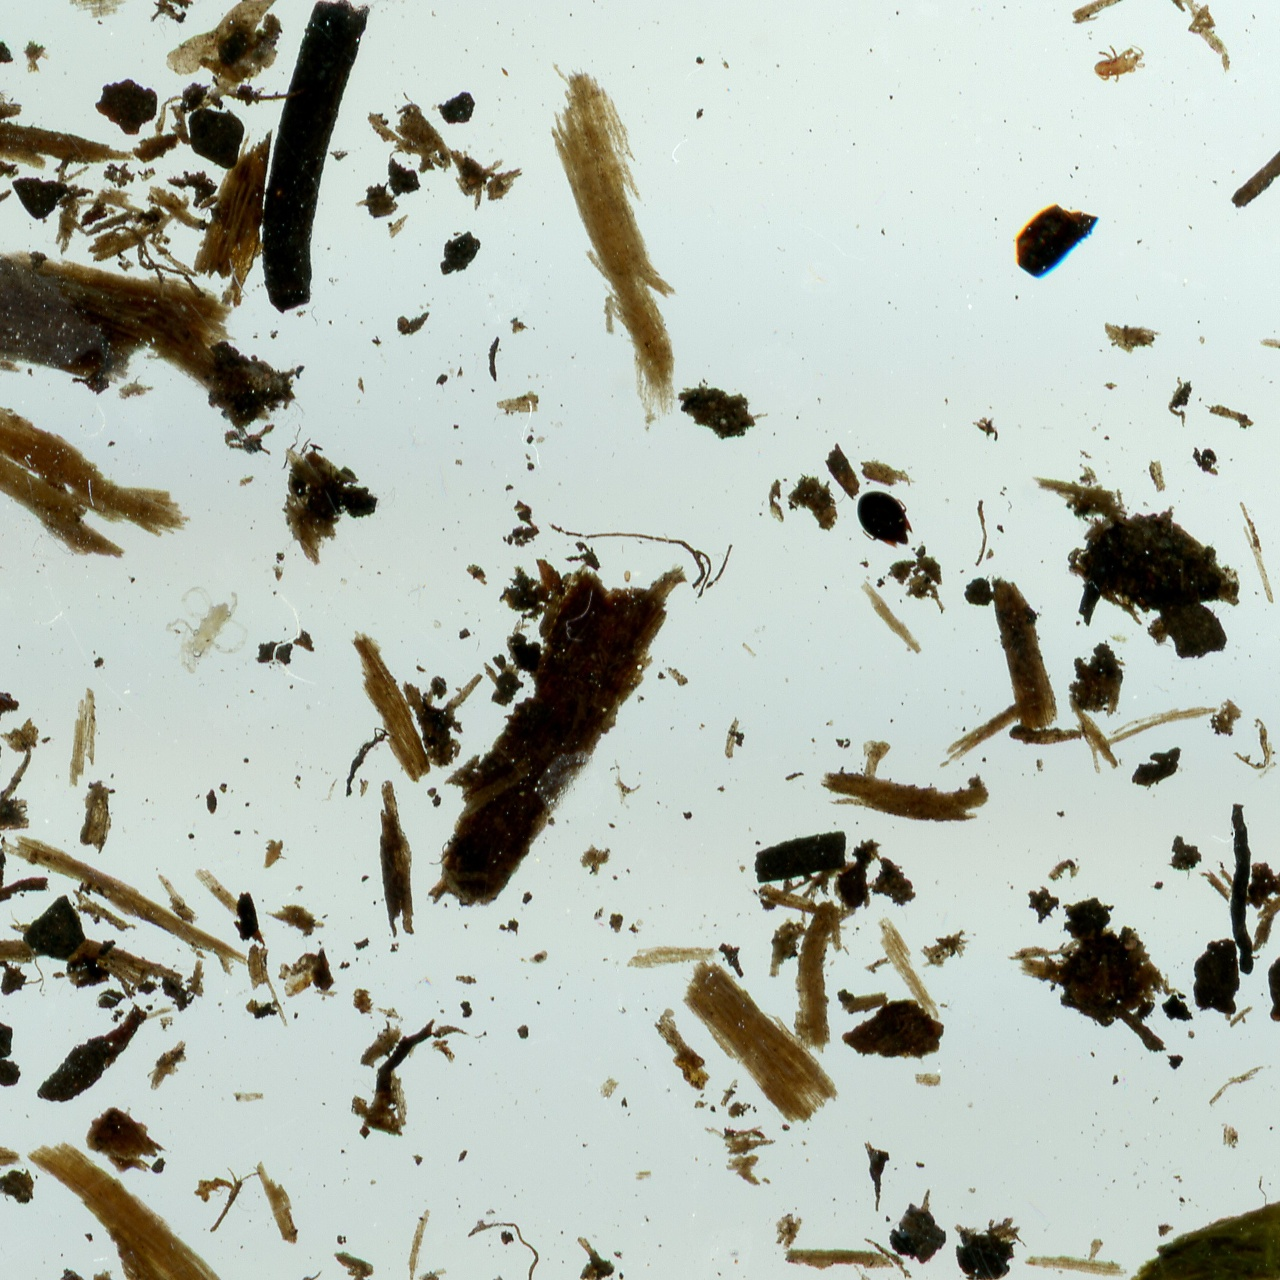arthropod: (148, 567, 269, 696), (838, 470, 934, 567)
